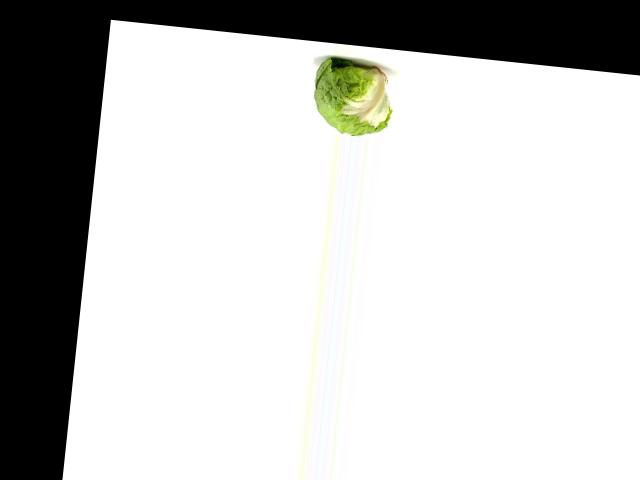lettuce: (308, 51, 398, 139)
